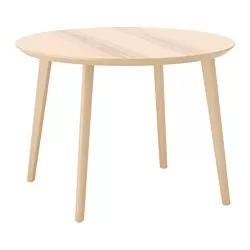Table: (15, 26, 237, 222)
